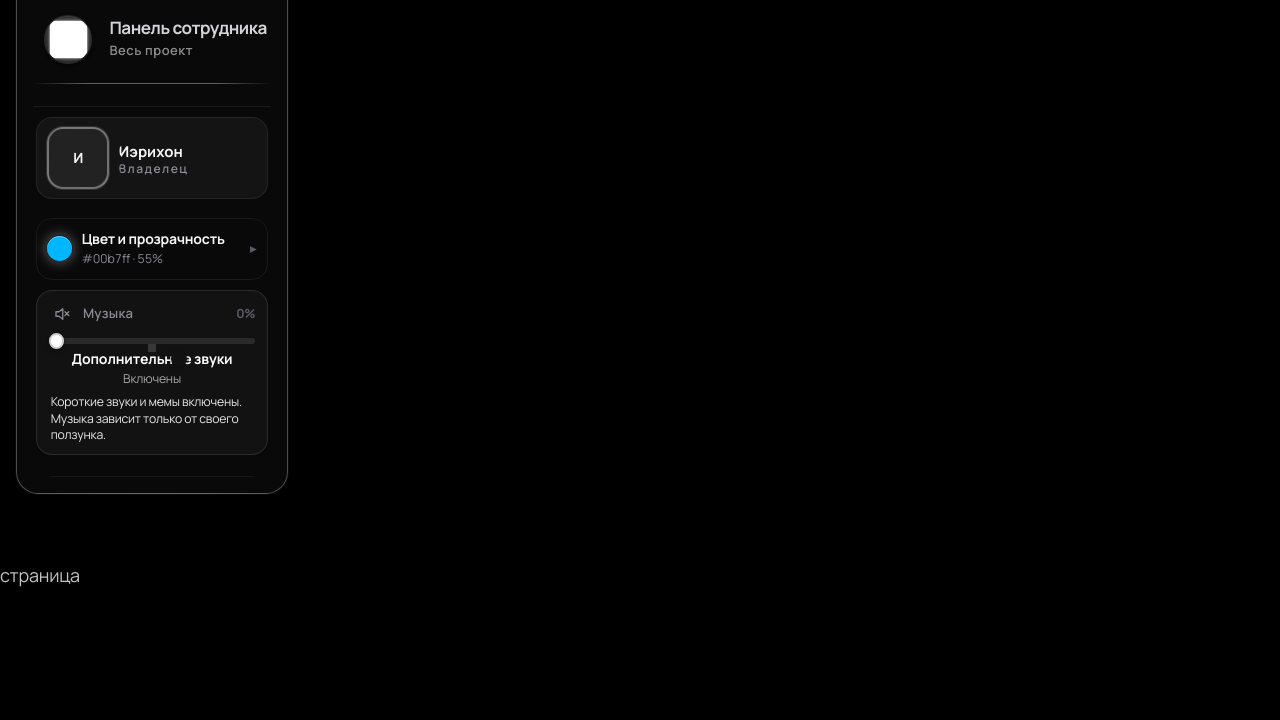
Test case: Сайдбар и палитра цвета (телефон) › повторный тап по кнопке «Любой цвет» закрывает палитру
The image size is (1280, 720).
Step 1. Press the mouse on the button "Цвет и прозрачность #00b7ff · 55% ▸" → (152, 249), box [36,218,268,280]
Step 2. Click the button "Цвет и прозрачность #00b7ff · 55% ▸" → click(152, 249), box [36,218,268,280]
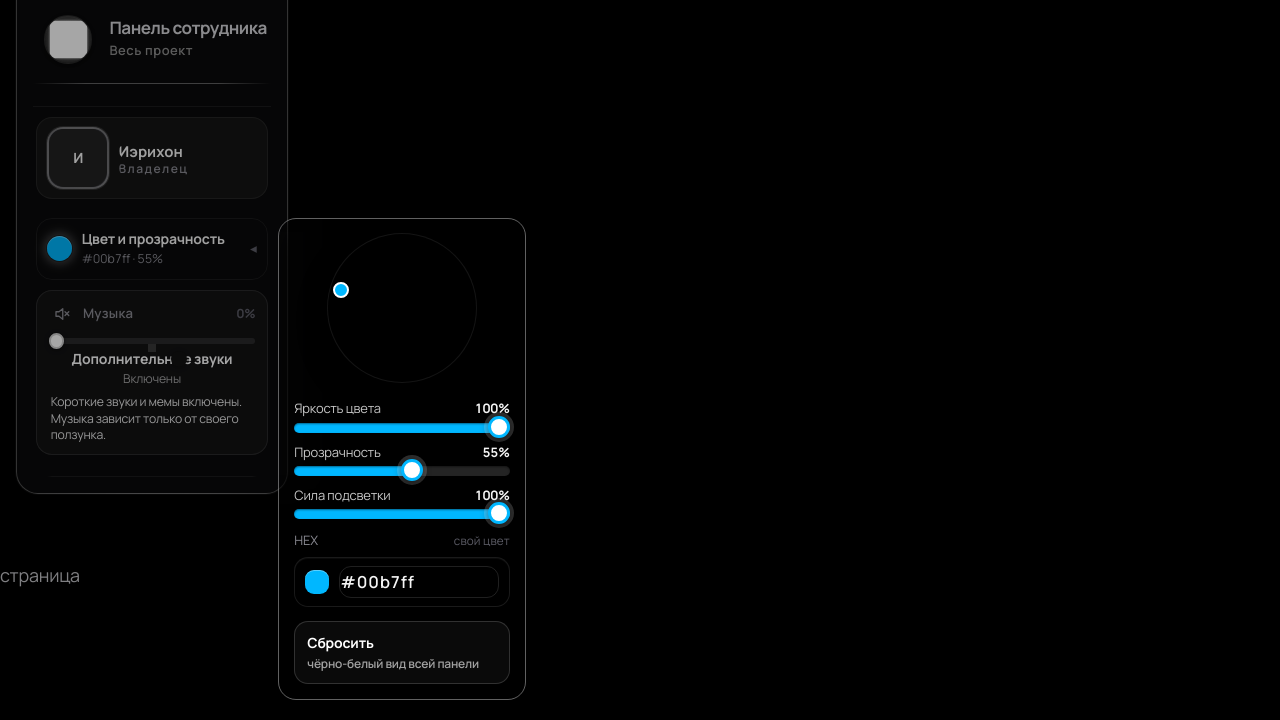
Expected: the dialog with class "accent-picker-panel" is shown, [278,218,526,699]
Step 3. Press the mouse on the button "Цвет и прозрачность #00b7ff · 55% ◂" → (152, 249), box [36,218,268,280]
Step 4. Click the button "Цвет и прозрачность #00b7ff · 55% ◂" → click(152, 249), box [36,218,268,280]
Wait 250 ms
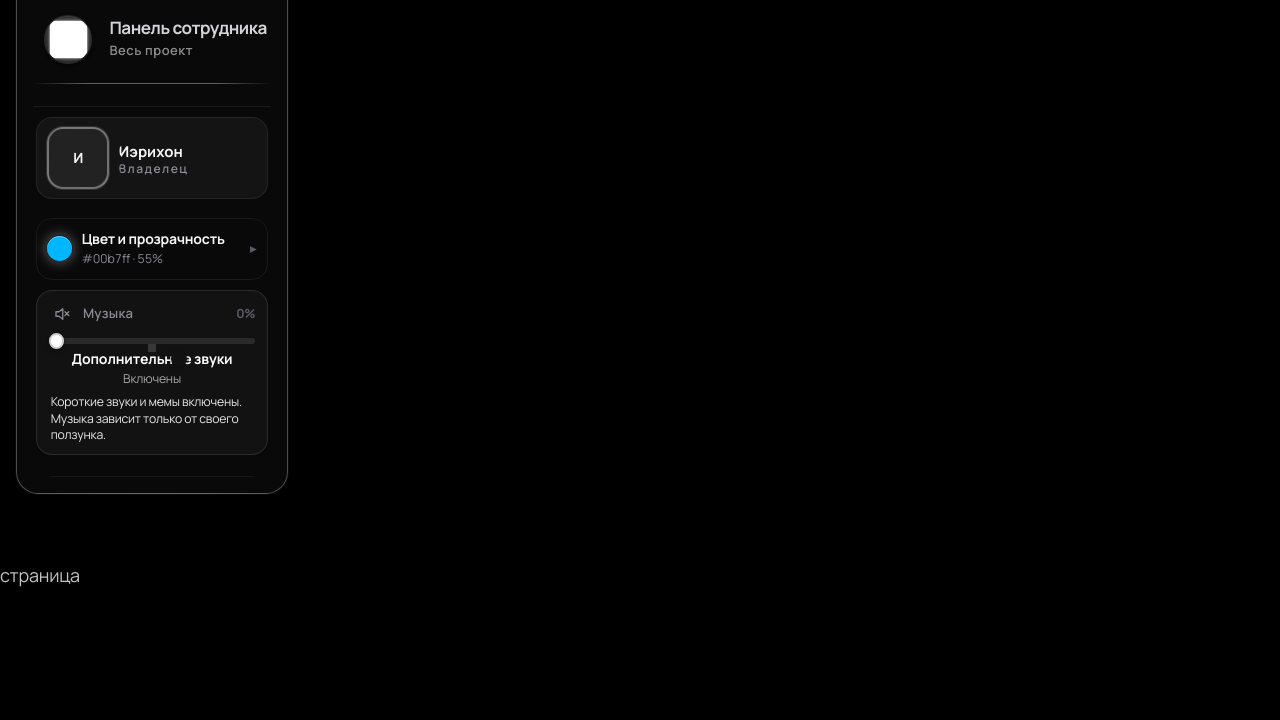
Expected: the dialog with class "accent-picker-panel" is gone
